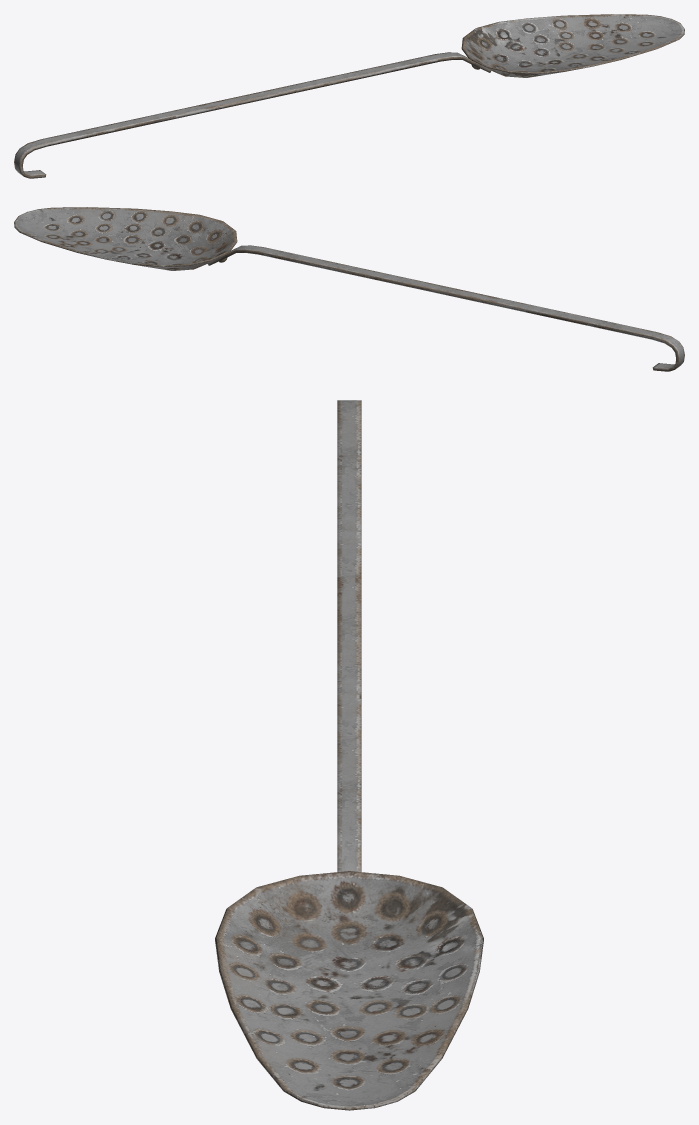
File: SM_Kitchenware02_2_LOD0.glb
3 renders of one model, top to bottom at view 1: azimuth 30°, elevation 25°; view 2: azimuth 150°, elevation 25°; view 3: azimuth 270°, elevation 25°, orthographic. The views are drawn at different scales.
Visible parts, largest first — view 1: SM_Kitchenware02_2_LOD0; view 2: SM_Kitchenware02_2_LOD0; view 3: SM_Kitchenware02_2_LOD0.
Boxes of the visible parts, <box> form: SM_Kitchenware02_2_LOD0: <box>14,14,684,178</box>; SM_Kitchenware02_2_LOD0: <box>14,207,684,371</box>; SM_Kitchenware02_2_LOD0: <box>215,400,483,1110</box>.
Size of the model in its own units: 0.7027 by 0.0437 by 0.1234.
Materials: 1 (1 with a texture image).
